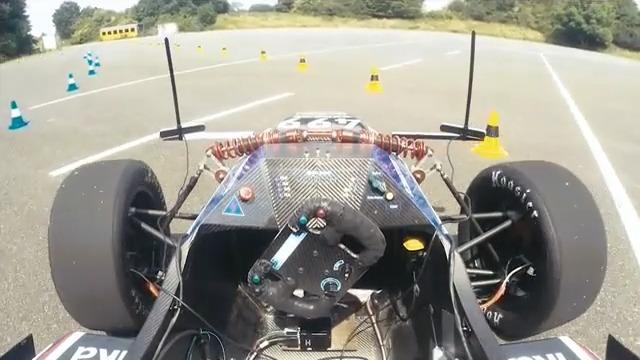blue_cone: (6, 98, 30, 132), (62, 71, 80, 93), (87, 63, 96, 76), (85, 55, 94, 67), (93, 56, 101, 68)
yellow_cone: (473, 111, 512, 161), (364, 65, 386, 96), (296, 53, 311, 73), (258, 48, 270, 62)
